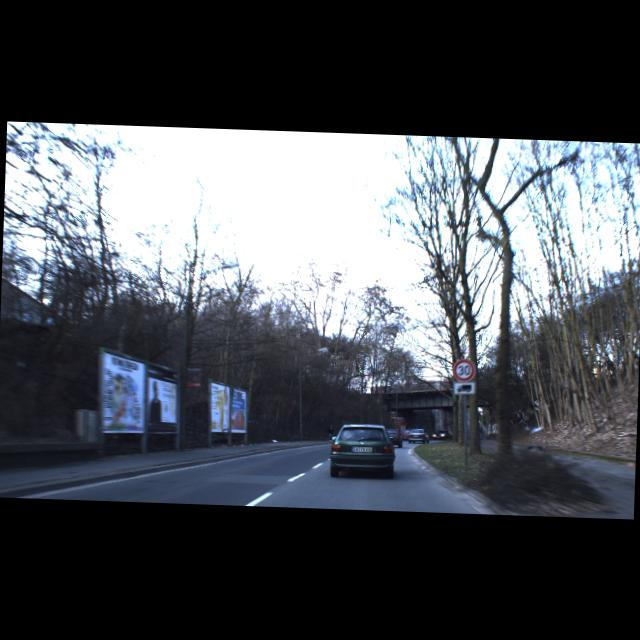prohibitory: (452, 358, 475, 382)
